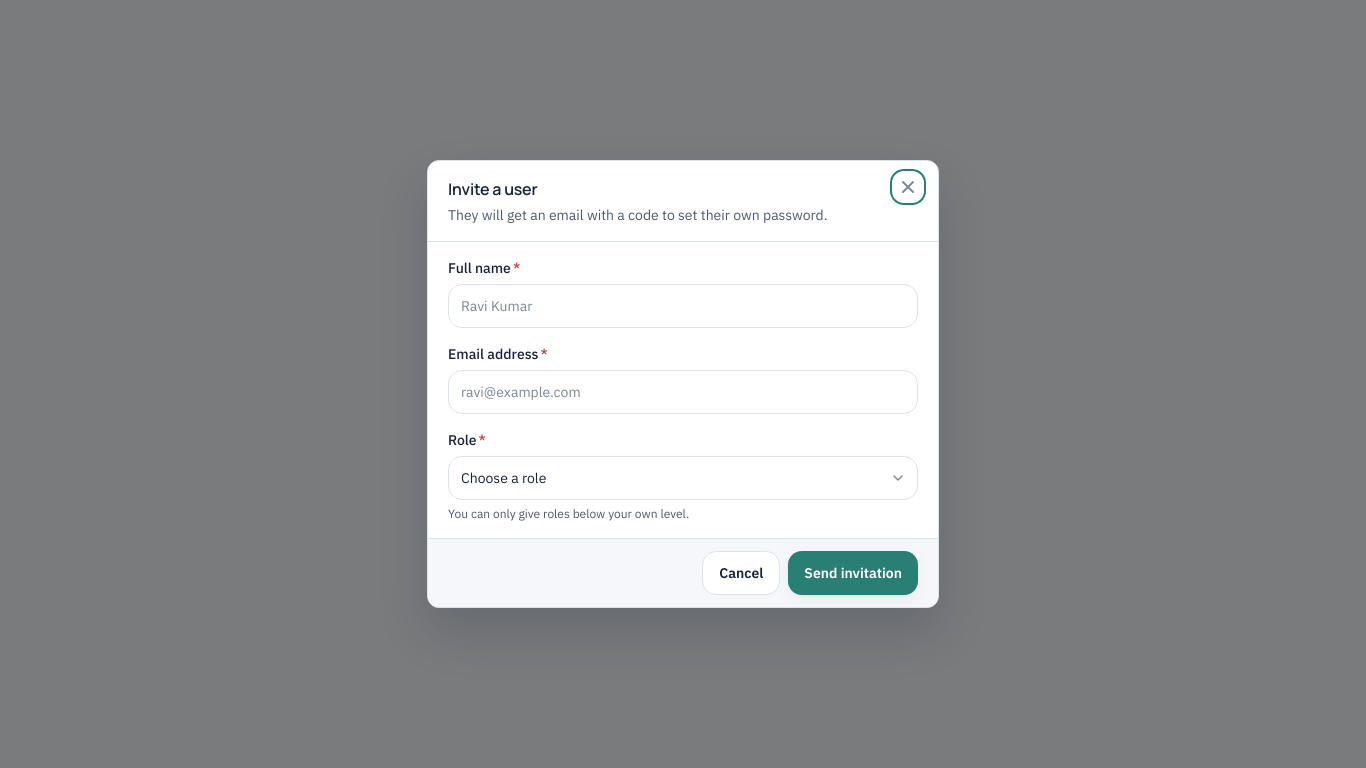
Test: InviteUserModal › offers classes for a student so a teacher can attach them to their own class
Select "Student" in the dropdown labelled "Role" at (683, 478), box top-left (448, 456), bottom-right (918, 500)
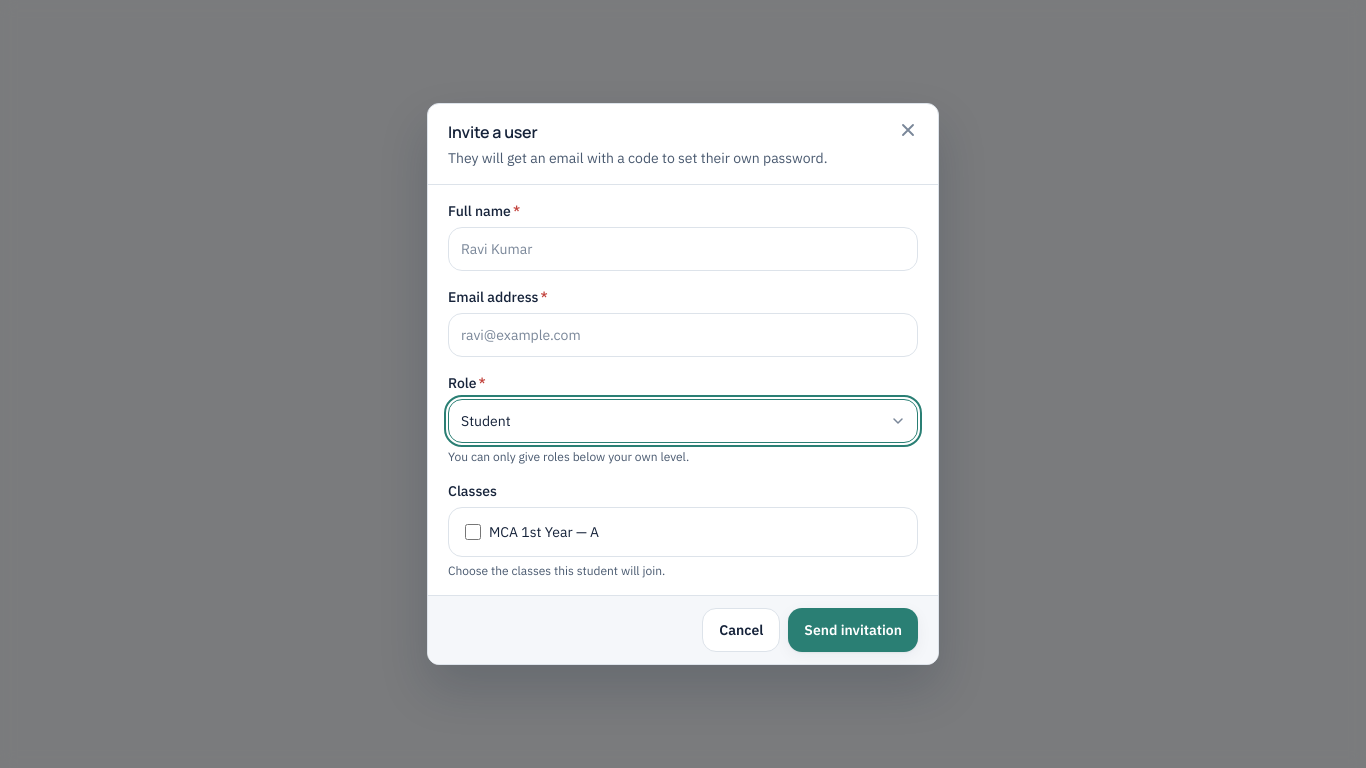
Result: the text "MCA 1st Year — A" is shown at top-left (489, 522), bottom-right (599, 542)
